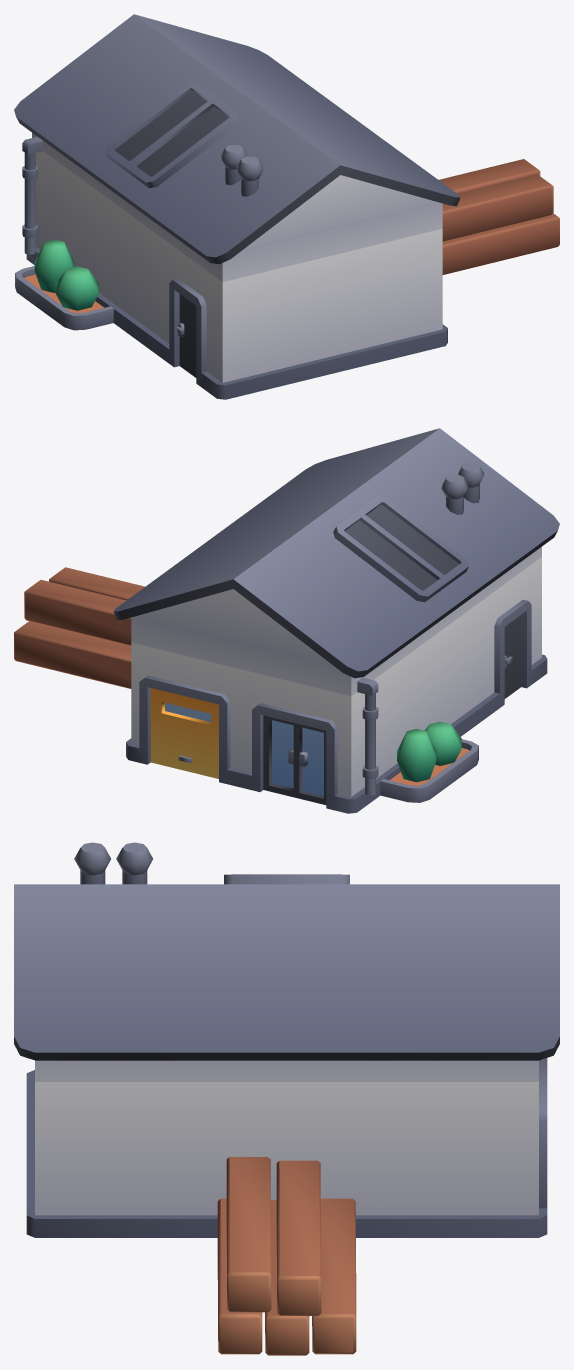
Rendered from lumber.glb.
The picture shows the model from 3 angles, top to bottom: view 1: azimuth 30°, elevation 25°; view 2: azimuth 150°, elevation 25°; view 3: azimuth 270°, elevation 25°; orthographic projection. The views are drawn at different scales.
Parts seen in each view (by area): view 1: building-i, resource_lumber; view 2: building-i, resource_lumber; view 3: building-i, resource_lumber.
Boxes of the visible parts, x1,y1,x2,y2 form: building-i: [14, 14, 460, 399]; resource_lumber: [439, 159, 559, 274]; building-i: [113, 428, 559, 813]; resource_lumber: [14, 567, 144, 688]; building-i: [14, 842, 559, 1237]; resource_lumber: [217, 1157, 356, 1355].
Bounding box in the file's own units: 1.66 × 0.7335 × 1.3.
Materials: 2 (2 with a texture image).
